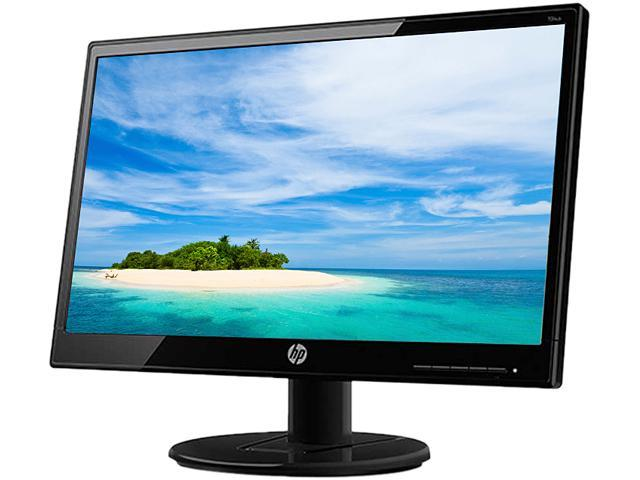hp-monitor-19ka: (48, 6, 597, 478)
